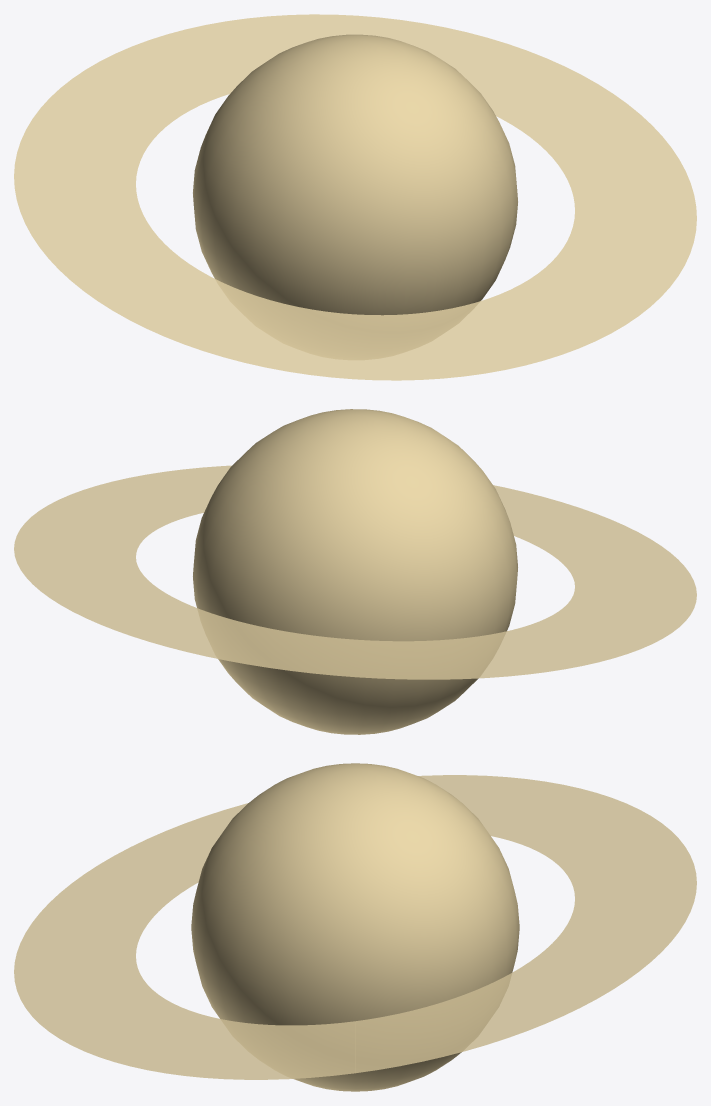
File: saturn.glb
The picture shows the model from 3 angles, top to bottom: view 1: azimuth 30°, elevation 25°; view 2: azimuth 150°, elevation 25°; view 3: azimuth 270°, elevation 25°; orthographic projection.
Visible parts, largest first — view 1: saturn; view 2: saturn; view 3: saturn.
Boxes of the visible parts, x1,y1,x2,y2 form: saturn: [14, 14, 696, 380]; saturn: [14, 409, 696, 734]; saturn: [14, 763, 696, 1091].
Size of the model in its own units: 4.2 by 2 by 4.16.
